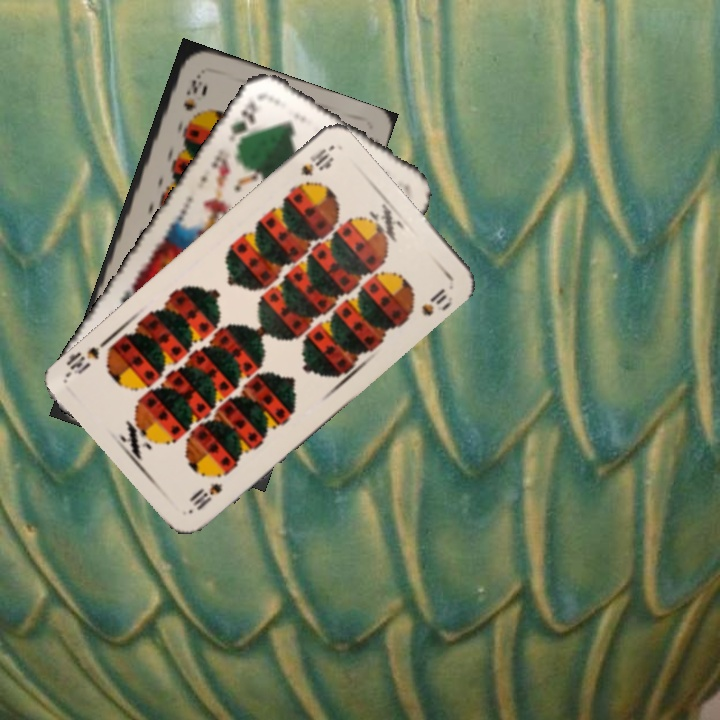GK: (224, 97, 260, 148)
S10: (187, 478, 226, 514), (296, 144, 336, 179), (179, 70, 203, 114)
